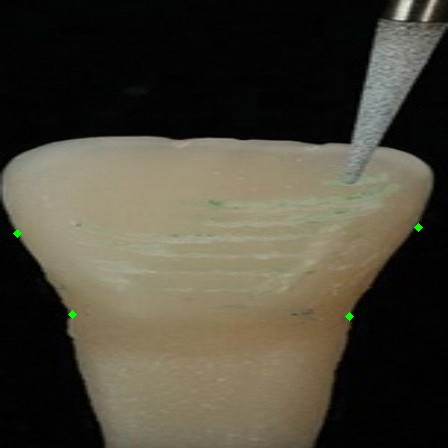coin_1: (72, 314, 92, 334)
coin_2: (17, 233, 37, 253)
coin_3: (349, 316, 369, 336)
coin_4: (418, 227, 438, 247)
